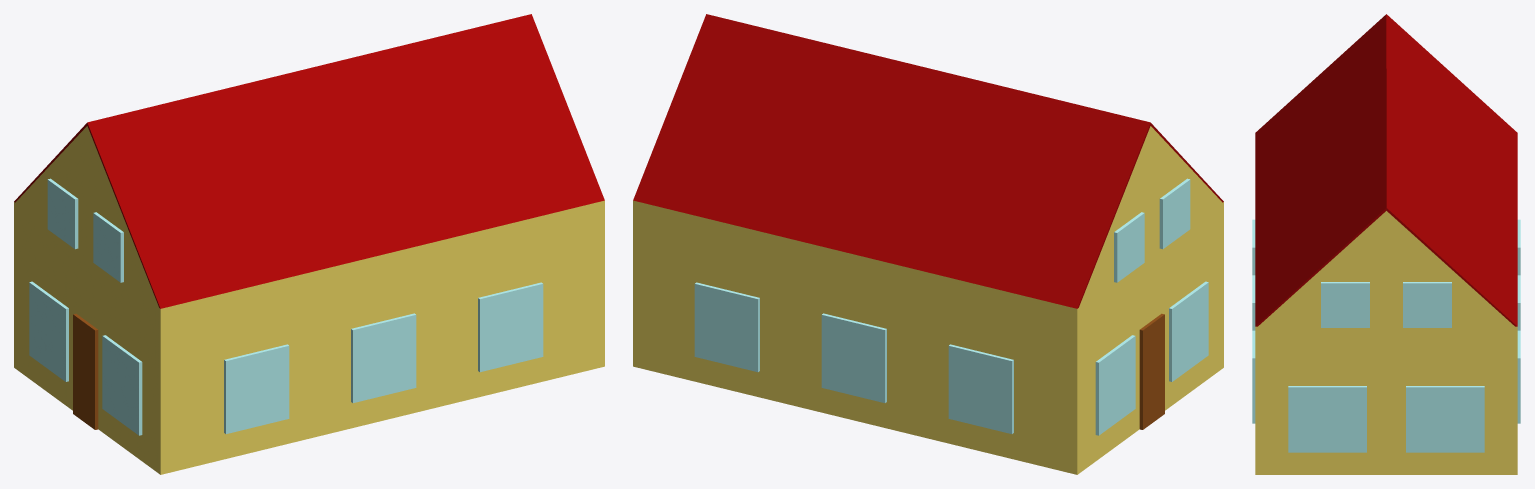
Rendered from house2.fbx.
3 views of the same model, side by side, from view 1: azimuth 30°, elevation 25°; view 2: azimuth 150°, elevation 25°; view 3: azimuth 270°, elevation 25° (orthographic). The views are drawn at different scales.
Parts seen in each view (by area): view 1: House2; view 2: House2; view 3: House2.
Part boxes in pixels (left/top/right/bottom): House2: left=14, top=14, right=604, bottom=474; House2: left=633, top=14, right=1223, bottom=474; House2: left=1252, top=14, right=1520, bottom=474.
Bounding box in the file's own units: 1846 × 1170 × 1066.
